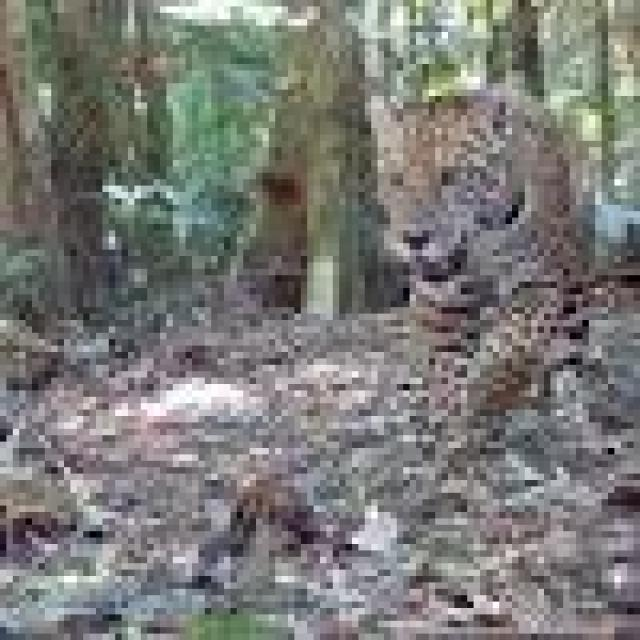Jaguar: (352, 83, 602, 442)
